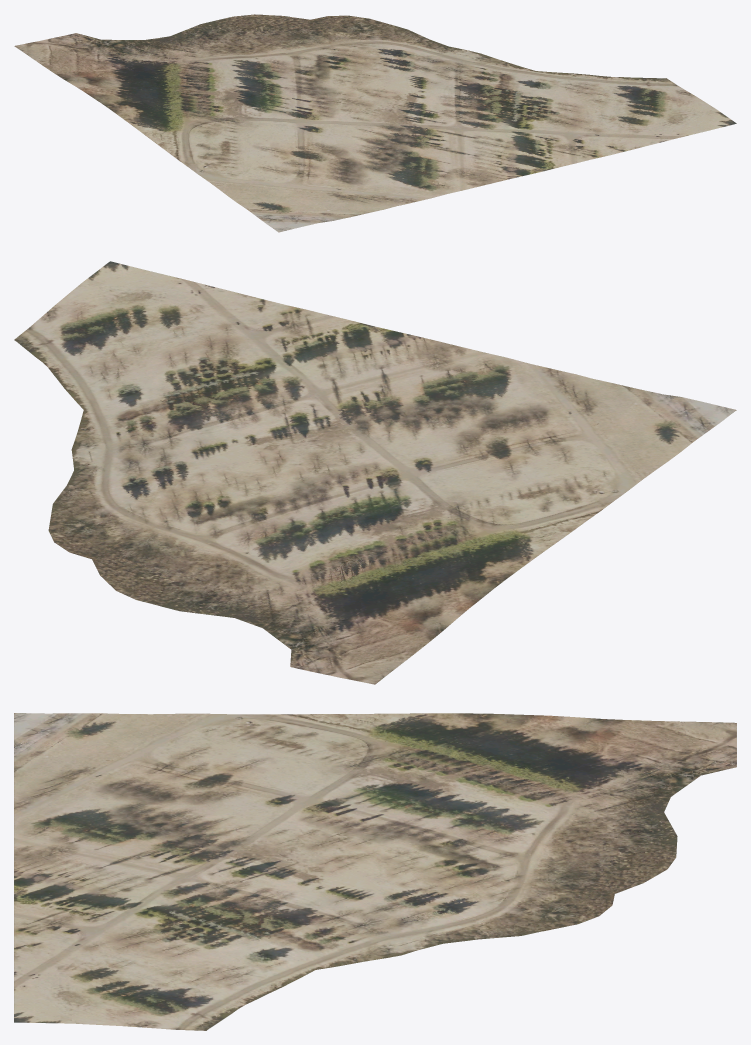
Rendered from CM_Terrain_24489434_6819384.fbx.
The picture shows the model from 3 angles, top to bottom: view 1: azimuth 30°, elevation 25°; view 2: azimuth 150°, elevation 25°; view 3: azimuth 270°, elevation 25°; orthographic projection. The views are drawn at different scales.
Parts seen in each view (by area): view 1: CM_Terrain_24489434_6819384_LOD0; view 2: CM_Terrain_24489434_6819384_LOD0; view 3: CM_Terrain_24489434_6819384_LOD0.
Part boxes in pixels (x1=…): CM_Terrain_24489434_6819384_LOD0: x1=14, y1=14, x2=736, y2=232; CM_Terrain_24489434_6819384_LOD0: x1=14, y1=261, x2=736, y2=684; CM_Terrain_24489434_6819384_LOD0: x1=14, y1=713, x2=736, y2=1030.
Size of what is drawn, in the model's own units: 205 by 4.49 by 205.
